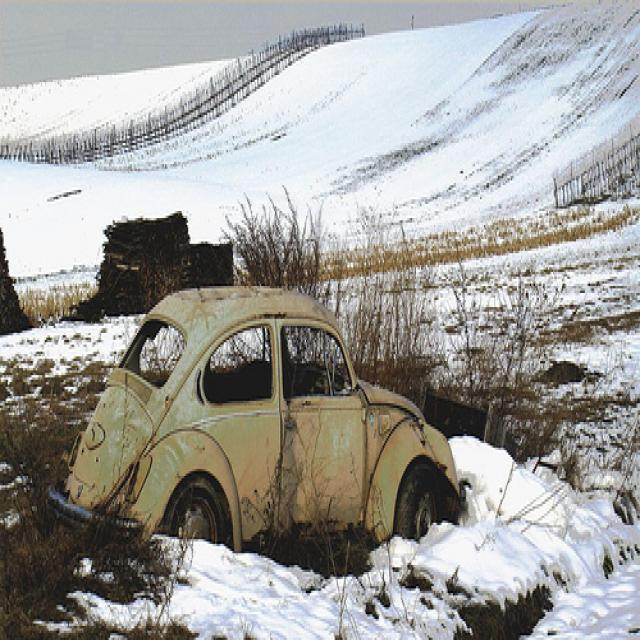Car: (44, 272, 462, 567)
